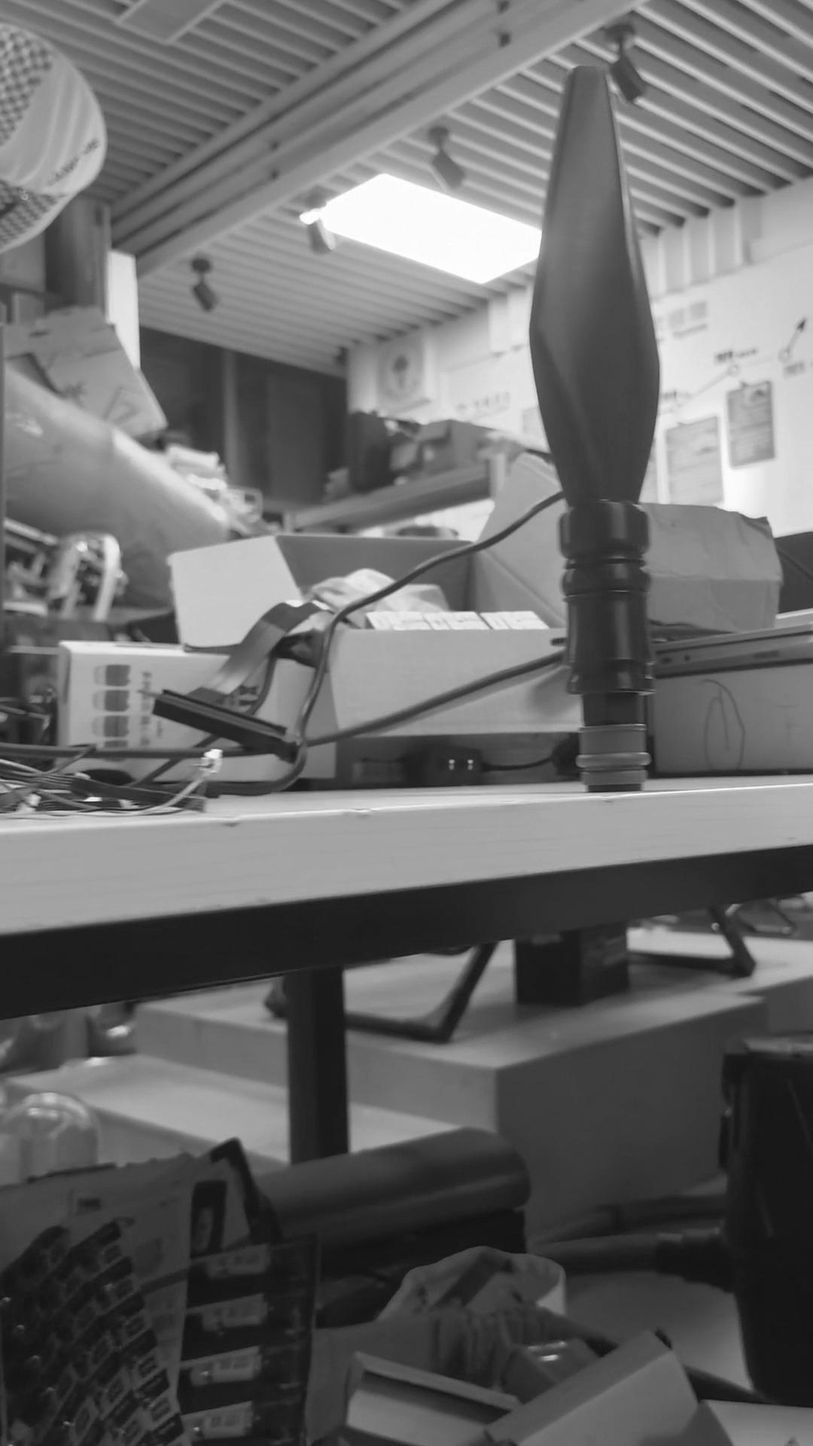base: (572, 715, 651, 791)
